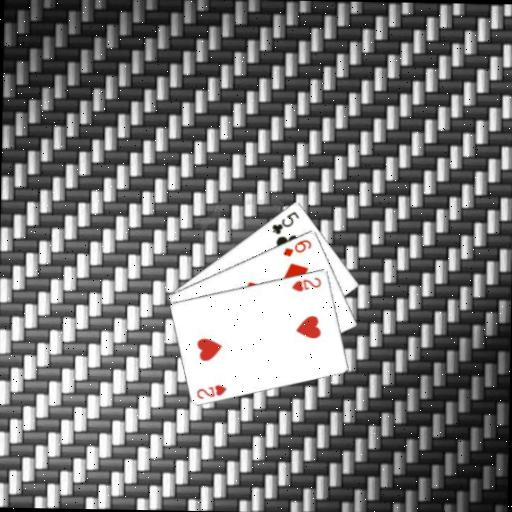2H: (194, 381, 228, 401), (289, 274, 323, 293)
5C: (269, 207, 301, 236)
6D: (280, 236, 313, 259)
